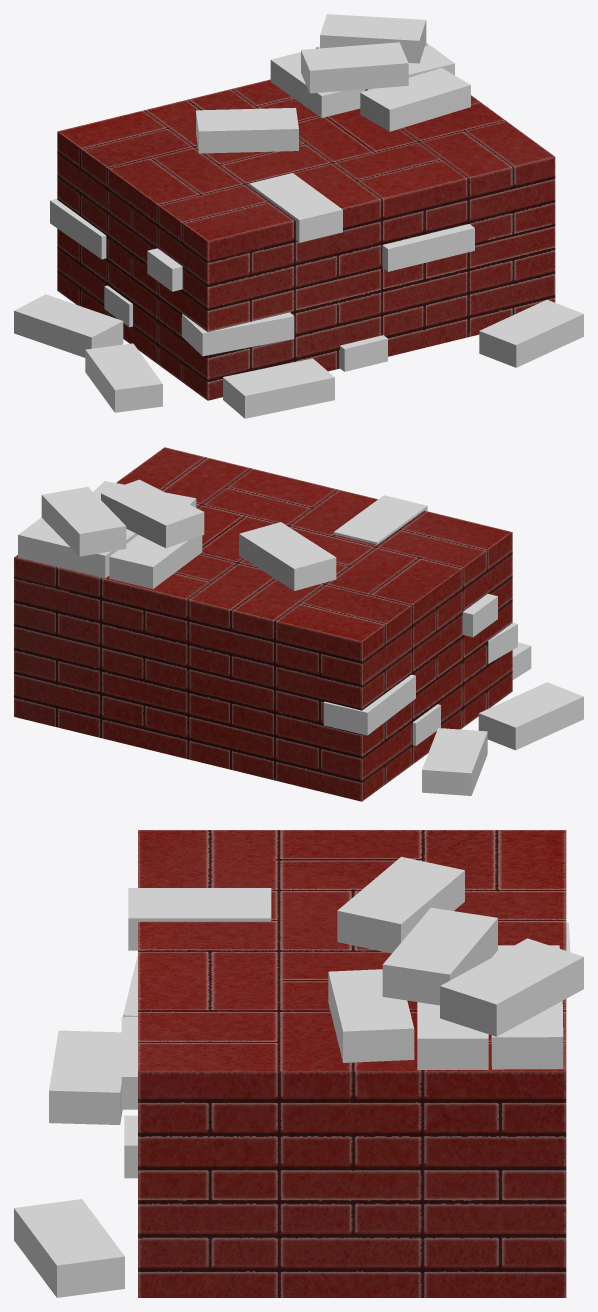
The model's file is Bricks.fbx.
3 renders of one model, top to bottom at view 1: azimuth 30°, elevation 25°; view 2: azimuth 150°, elevation 25°; view 3: azimuth 270°, elevation 25°, orthographic. The views are drawn at different scales.
Parts seen in each view (by area): view 1: Bricks, brick.015, brick.010, brick.013, brick.009, brick.007, brick.011, brick.012, brick.008, Orgb.006, Orgb.003, Orgb.001 (+6 smaller); view 2: Bricks, brick.012, brick.007, brick.010, brick.008, brick.011, brick.006, brick, Orgb.005, Orgb.006, Orgb.002, Orgb.003 (+2 smaller); view 3: Bricks, brick.008, brick.013, brick.007, brick.010, brick.015, brick.009, Orgb.006, brick.002, brick, Orgb.001, Orgb.007.
Boxes of the visible parts, <box> form: Bricks: <box>57,79,555,400</box>; brick.015: <box>223,358,334,418</box>; brick.010: <box>301,42,408,93</box>; brick.013: <box>479,299,583,367</box>; brick.009: <box>360,68,470,131</box>; brick.007: <box>196,108,298,153</box>; brick.011: <box>14,294,123,357</box>; brick.012: <box>85,343,162,412</box>; brick.008: <box>320,14,426,63</box>; Orgb.006: <box>249,173,342,242</box>; Orgb.003: <box>182,312,294,356</box>; Orgb.001: <box>382,224,474,271</box>; Bricks: <box>14,447,512,801</box>; brick.012: <box>478,682,583,750</box>; brick.007: <box>239,522,336,590</box>; brick.010: <box>101,479,204,548</box>; brick.008: <box>41,486,126,556</box>; brick.011: <box>422,728,487,795</box>; brick.006: <box>109,535,202,588</box>; brick: <box>18,517,130,578</box>; Orgb.005: <box>323,674,415,735</box>; Orgb.006: <box>333,495,427,544</box>; Orgb.002: <box>462,594,497,637</box>; Orgb.003: <box>488,622,517,663</box>; Bricks: <box>138,830,566,1297</box>; brick.008: <box>440,938,583,1036</box>; brick.013: <box>14,1199,124,1297</box>; brick.007: <box>337,856,464,953</box>; brick.010: <box>382,907,497,1005</box>; brick.015: <box>49,1030,122,1124</box>; brick.009: <box>328,969,414,1062</box>; Orgb.006: <box>128,888,271,950</box>; brick.002: <box>417,1002,488,1069</box>; brick: <box>491,1001,563,1069</box>; Orgb.001: <box>121,1016,137,1109</box>; Orgb.007: <box>124,1115,137,1178</box>.
Bounding box in the file's own units: 111 × 50.55 × 89.65.
